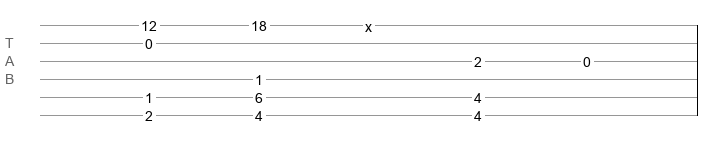0: (145, 36, 153, 46), (583, 54, 591, 64)
1: (145, 90, 153, 100), (255, 72, 263, 82)
12: (141, 18, 157, 28)
18: (251, 18, 267, 28)
2: (145, 108, 153, 118), (474, 54, 482, 64)
4: (255, 108, 263, 118), (474, 108, 482, 118), (474, 90, 482, 100)
6: (255, 90, 263, 100)
x: (365, 19, 372, 27)
